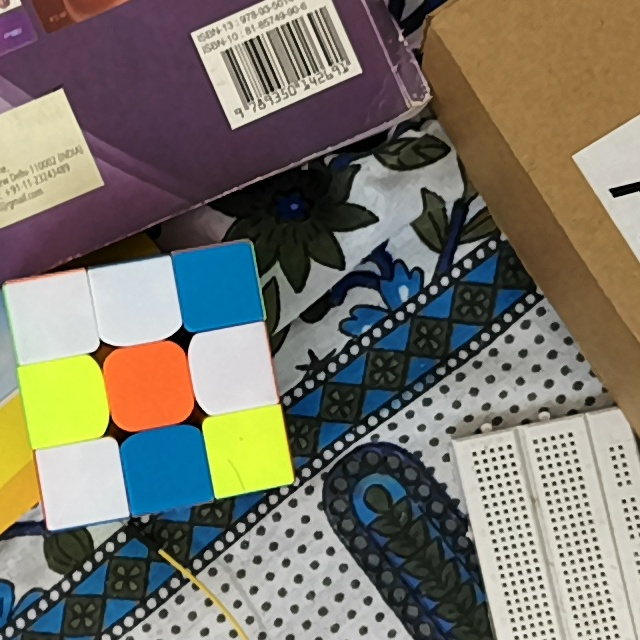tile: (101, 268, 172, 333), (113, 355, 181, 419), (132, 439, 202, 501), (50, 451, 117, 515), (18, 286, 86, 349), (187, 253, 252, 317), (31, 369, 97, 432), (219, 418, 282, 482), (201, 337, 263, 401)
